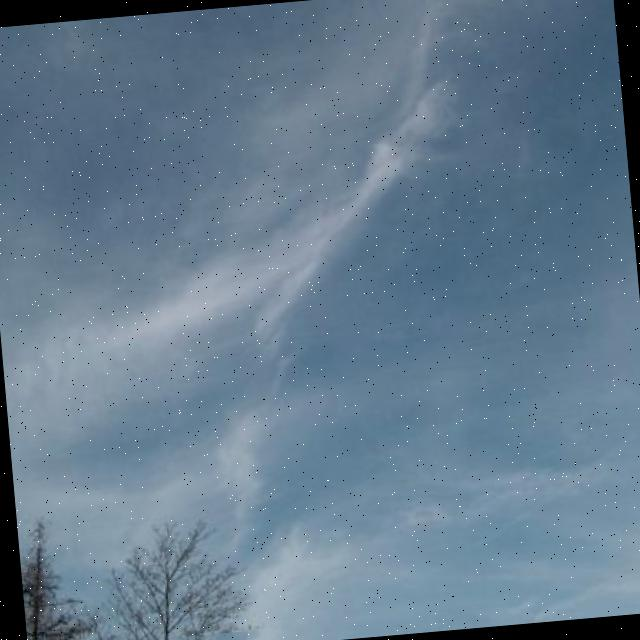Ci: (1, 1, 640, 463)
